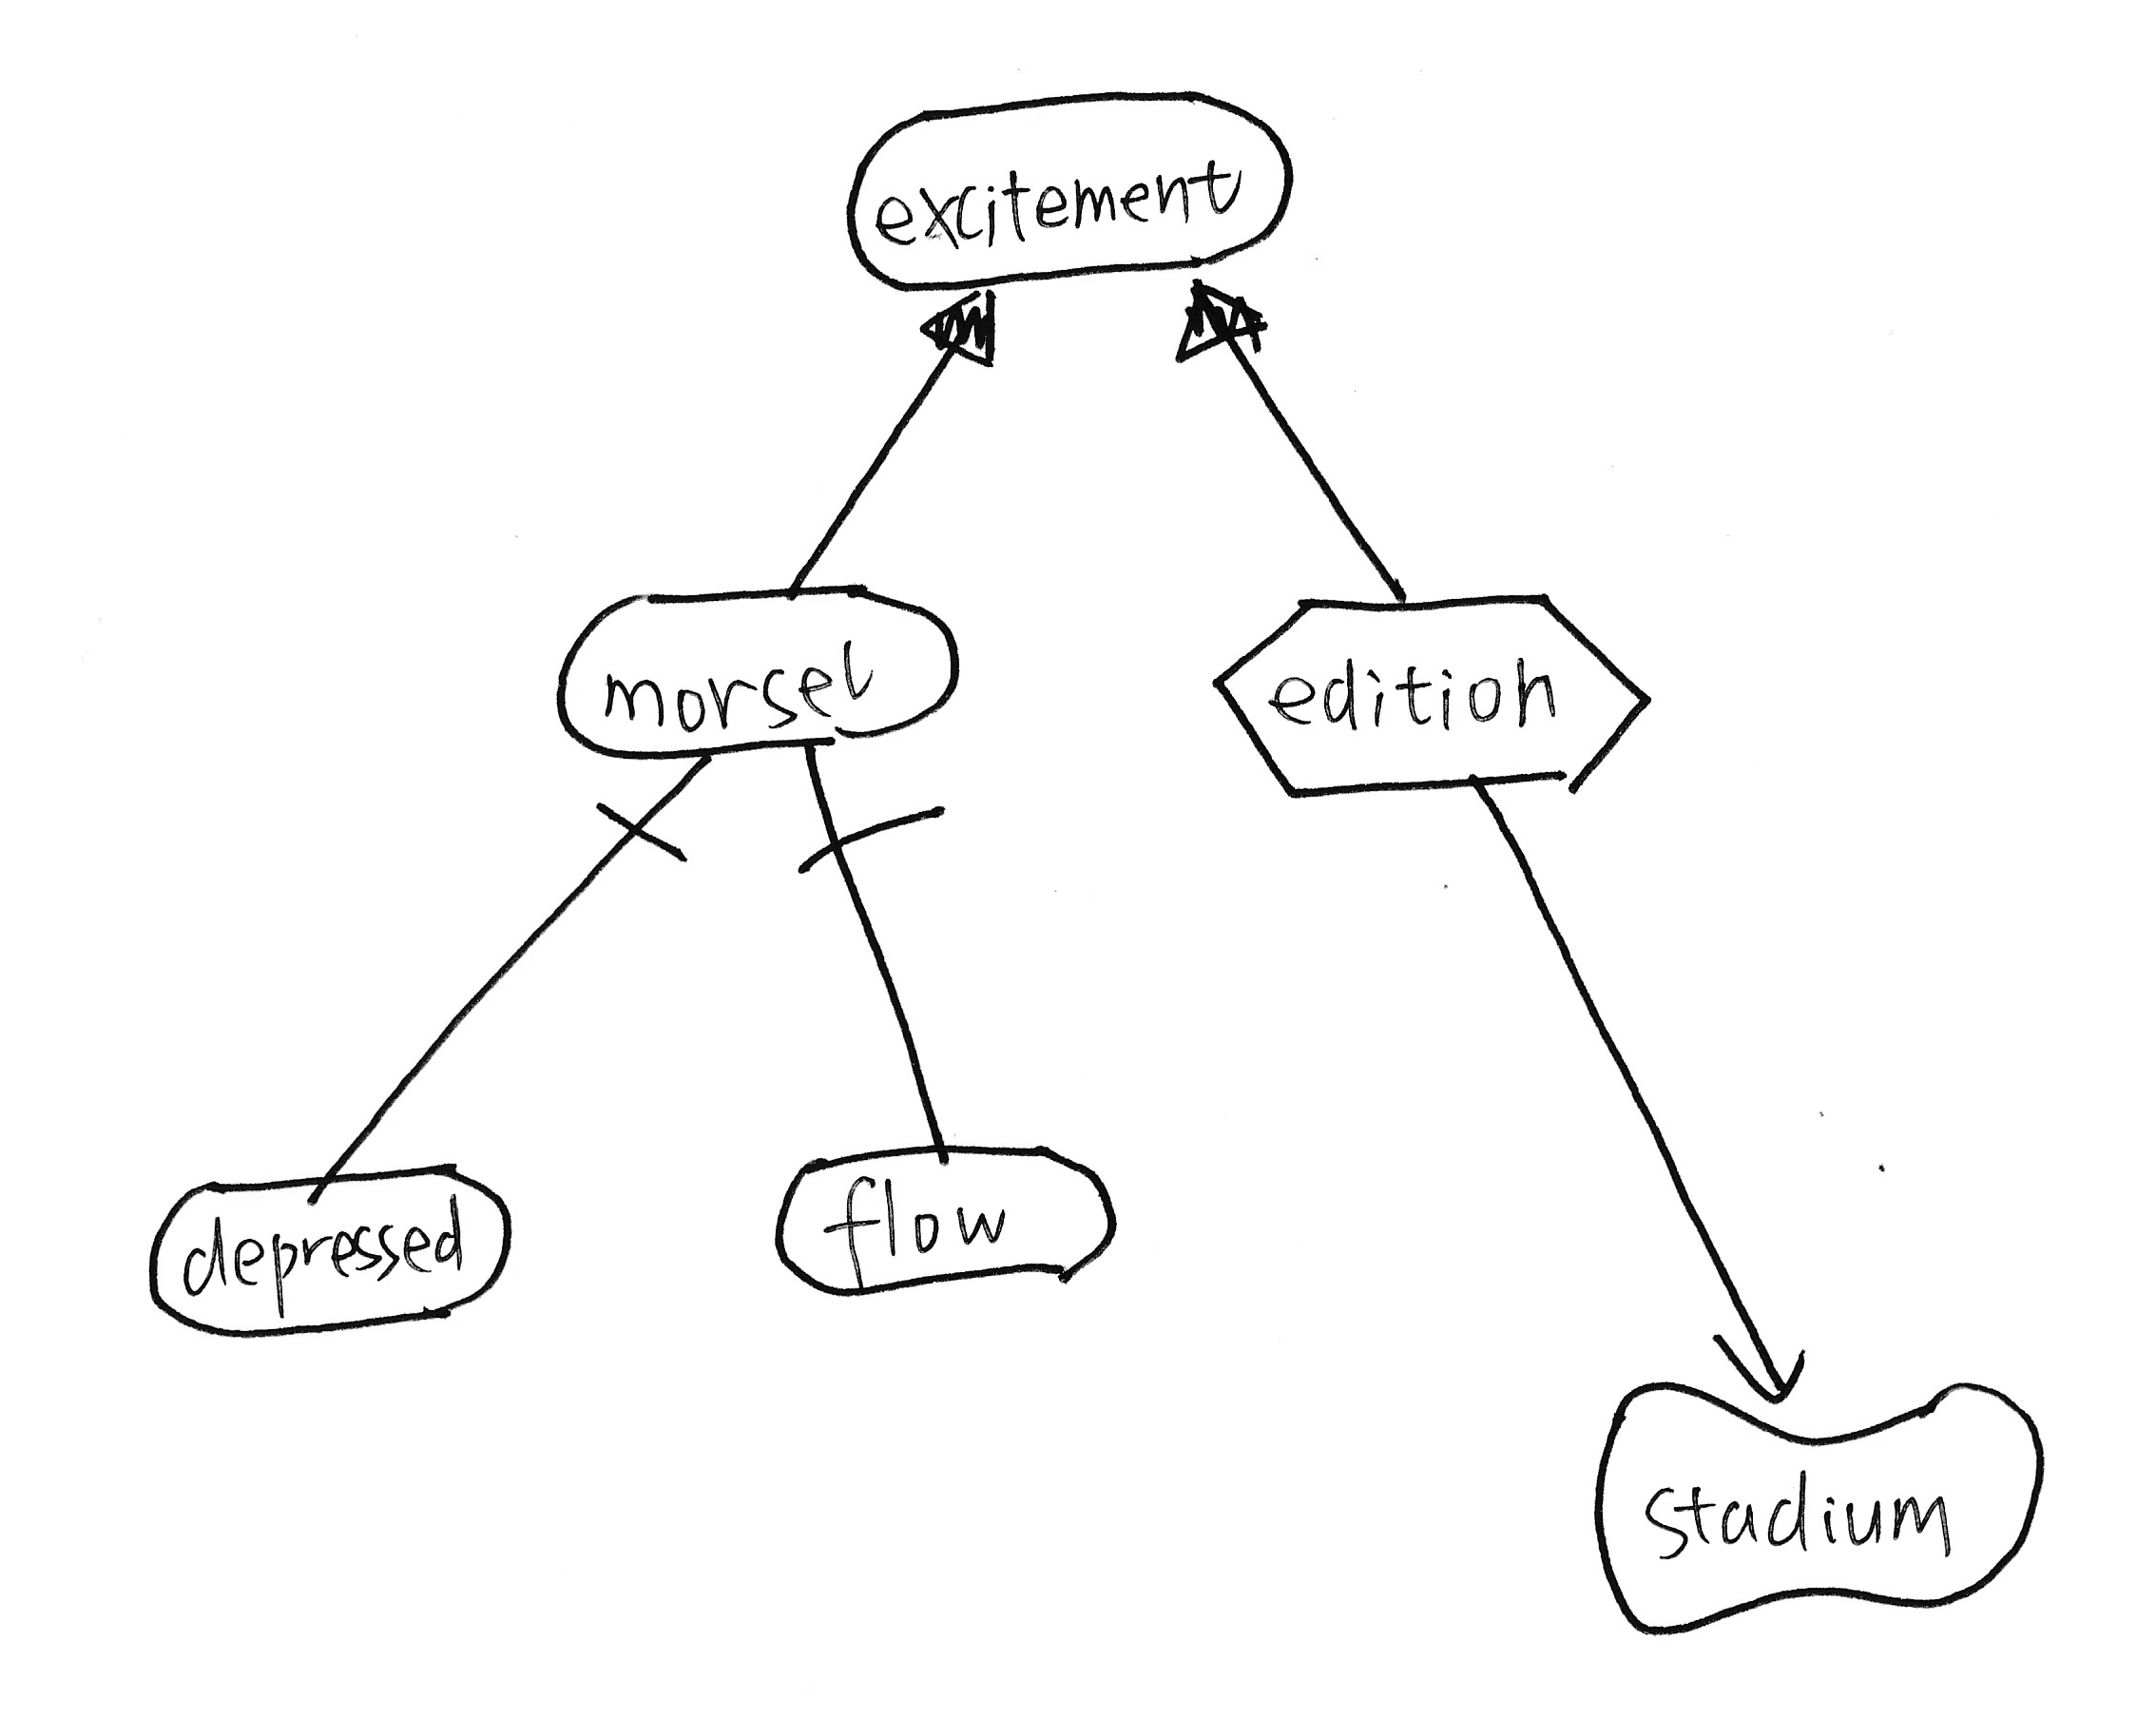and: (784, 777, 961, 900), (577, 772, 710, 879)
arrow: (1693, 1298, 1824, 1424)
goal: (821, 70, 1309, 300), (539, 574, 968, 770), (133, 1149, 525, 1349), (761, 1130, 1132, 1309)
or: (1154, 270, 1281, 381), (909, 275, 1014, 388)
quality: (1582, 1363, 2060, 1649)
task: (1198, 579, 1674, 830)
